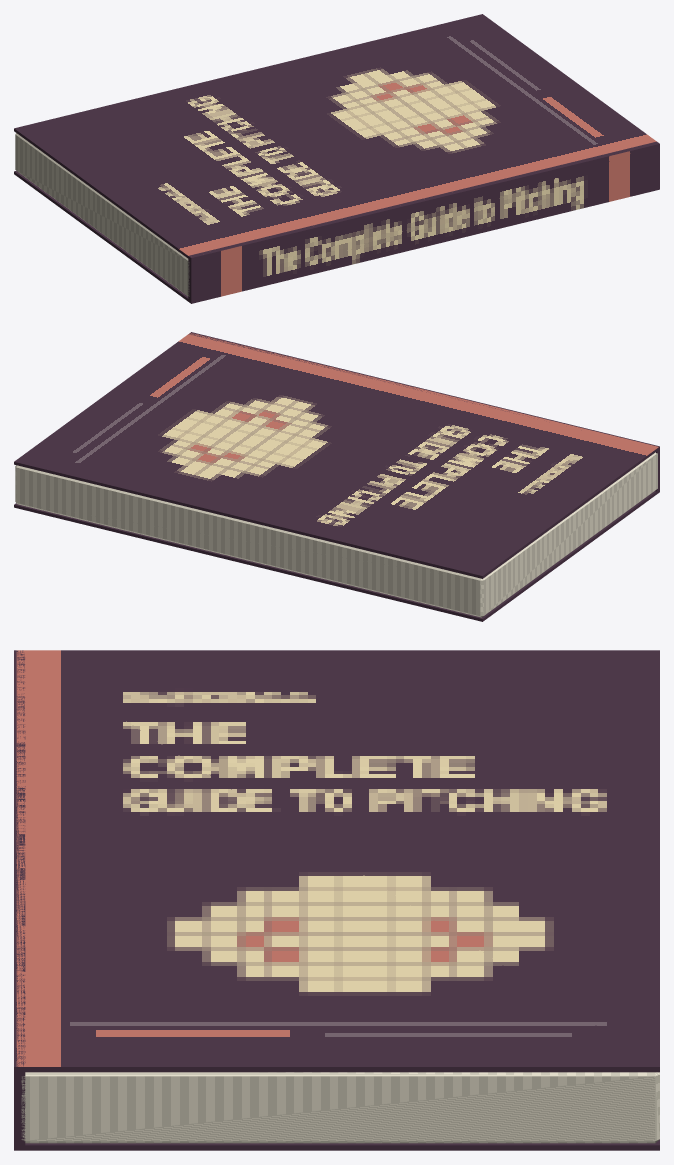
Rendered from manual_throw.glb.
3 renders of one model, top to bottom at view 1: azimuth 30°, elevation 25°; view 2: azimuth 150°, elevation 25°; view 3: azimuth 270°, elevation 25°, orthographic. The views are drawn at different scales.
Visible parts, largest first — view 1: block_front, block_spine, block_pages, block_back; view 2: block_front, block_pages, block_back, block_spine; view 3: block_front, block_pages, block_back, block_spine.
Boxes of the visible parts, left/top/right/bottom form: block_front: left=14, top=14, right=656, bottom=259; block_spine: left=188, top=141, right=659, bottom=303; block_pages: left=15, top=133, right=189, bottom=296; block_back: left=14, top=171, right=190, bottom=302; block_front: left=14, top=332, right=659, bottom=578; block_pages: left=15, top=452, right=657, bottom=617; block_back: left=14, top=490, right=659, bottom=621; block_spine: left=188, top=332, right=659, bottom=492; block_front: left=16, top=650, right=659, bottom=1072; block_pages: left=21, top=1072, right=659, bottom=1143; block_back: left=17, top=1139, right=659, bottom=1150; block_spine: left=14, top=650, right=25, bottom=1150.
Bounding box in the file's own units: 0.196 × 0.0183 × 0.1285.
Materials: 1 (1 with a texture image).
